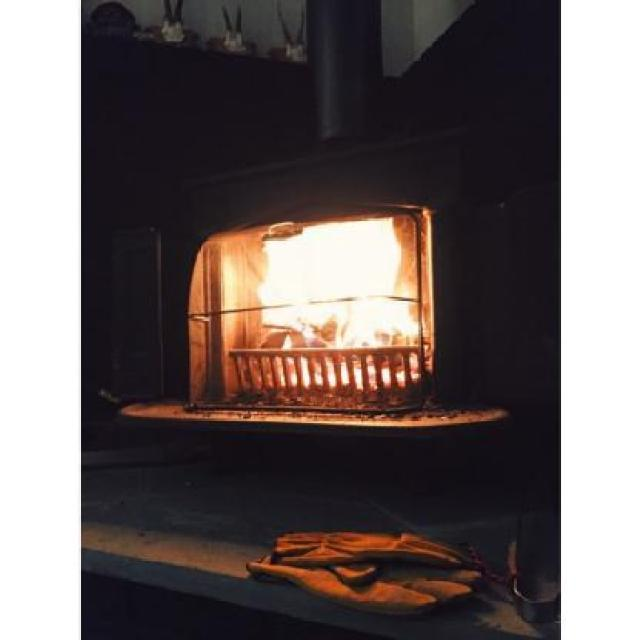Fire: (253, 217, 426, 349)
